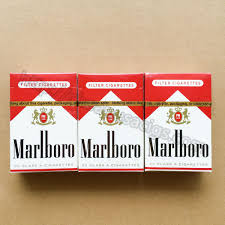marlboro: (10, 74, 76, 175), (77, 74, 143, 172), (145, 75, 210, 171)
